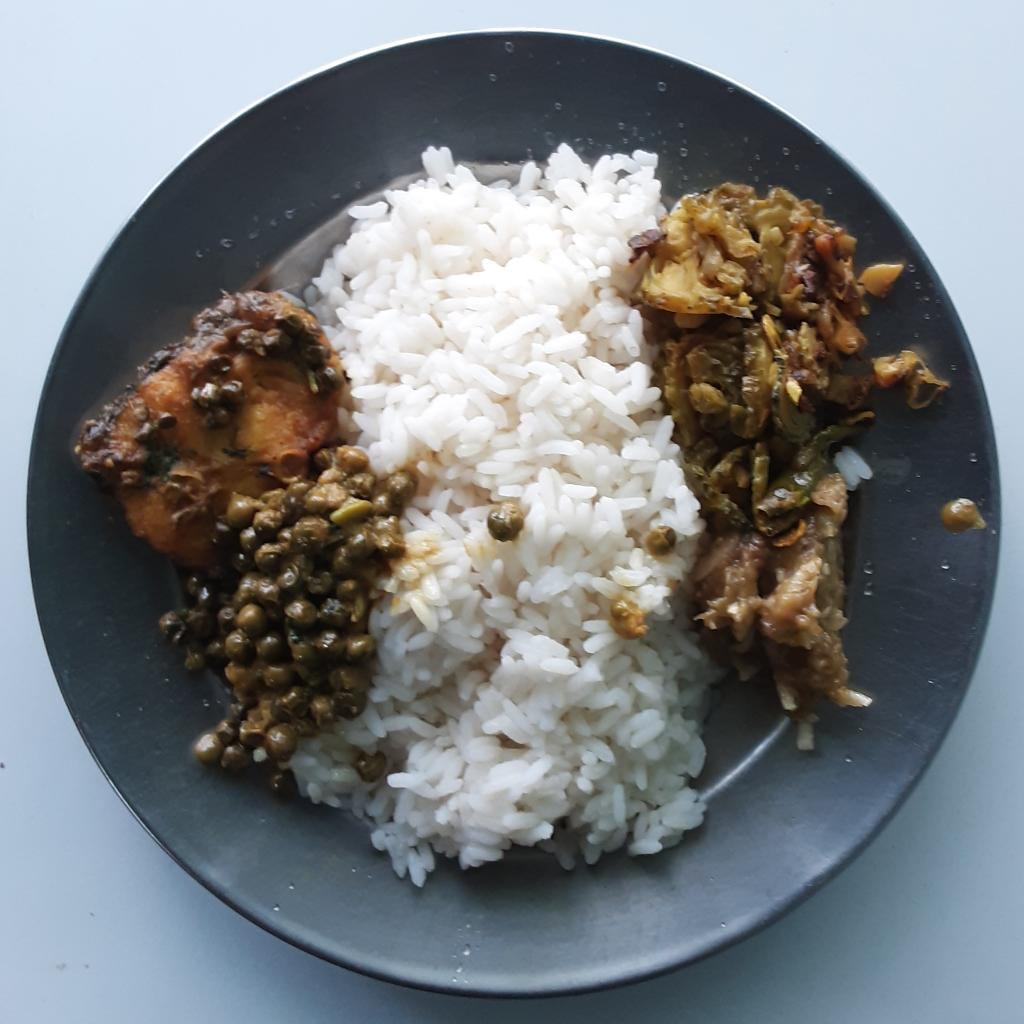begun-vaji: (695, 469, 879, 744)
fish: (81, 282, 361, 579)
green-pea: (155, 441, 419, 794), (481, 491, 522, 544), (610, 593, 648, 636), (356, 749, 394, 788), (638, 522, 678, 556)
korola-vaji: (633, 183, 946, 535)
rice: (296, 138, 727, 884)
